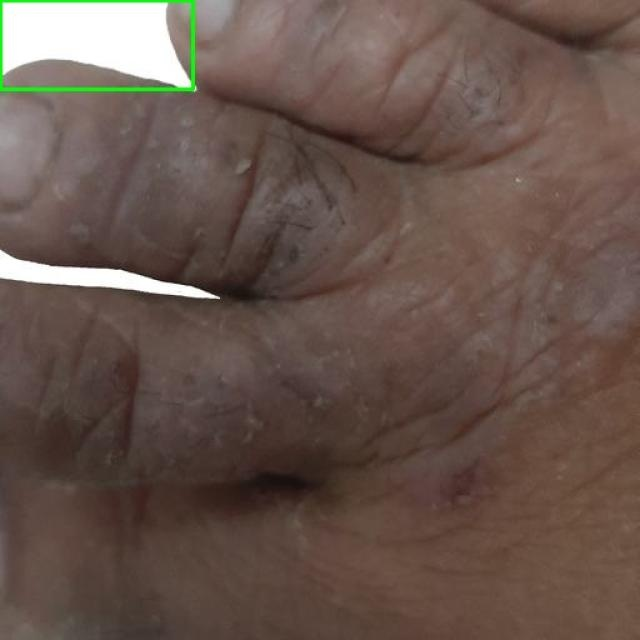Eczema: (0, 0, 192, 89)
